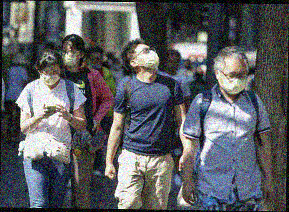mask_weared_incorrect: (89, 53, 102, 70)
with_mask: (217, 66, 248, 95), (134, 46, 159, 70), (39, 65, 61, 87), (60, 44, 81, 67)
without_mask: (165, 56, 180, 73)
